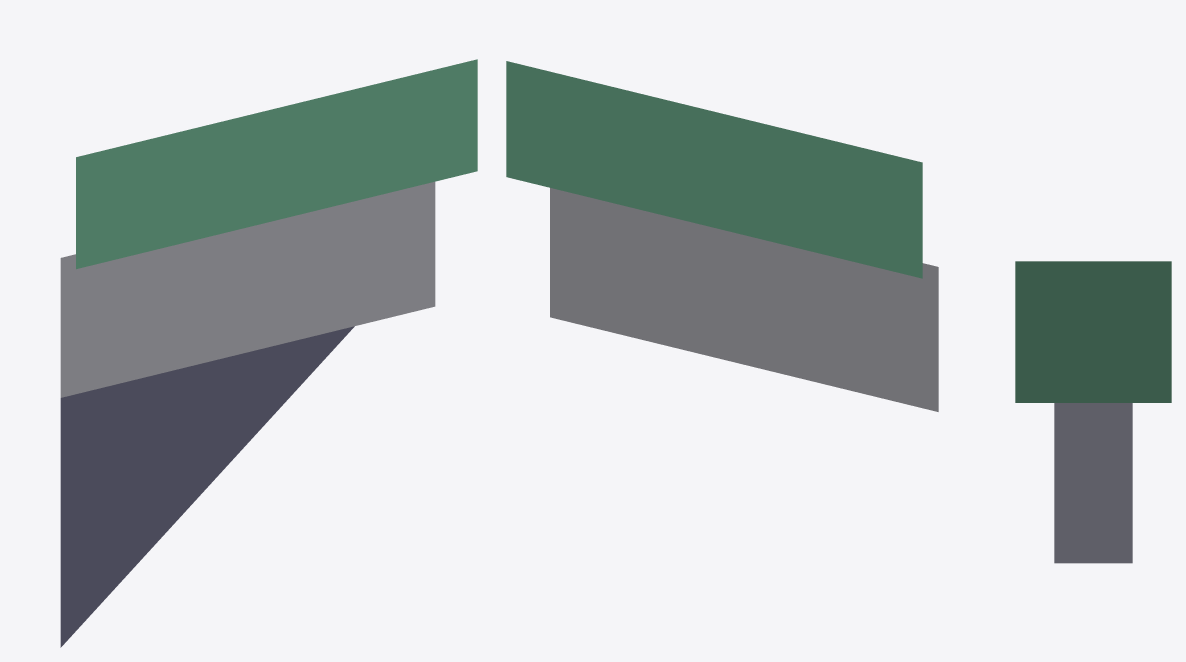
The picture shows the model from 3 angles, left to right: view 1: azimuth 30°, elevation 25°; view 2: azimuth 150°, elevation 25°; view 3: azimuth 270°, elevation 25°; orthographic projection. The views are drawn at different scales.
Size of the model in its own units: 0.9375 by 1.12 by 0.25.
1 material, 1 textured.
